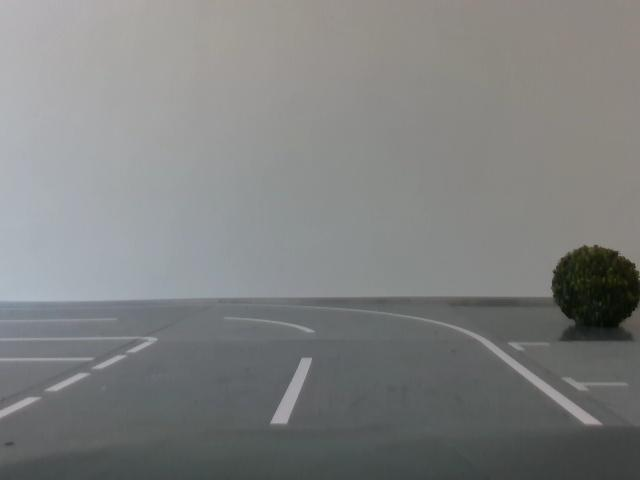potted plant: (554, 240, 640, 340)
